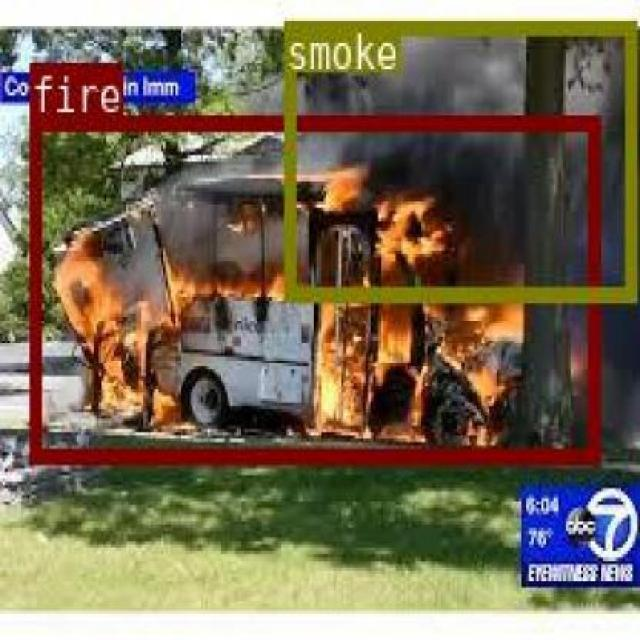Fire: (28, 112, 596, 460)
Smoke: (284, 18, 633, 300)
